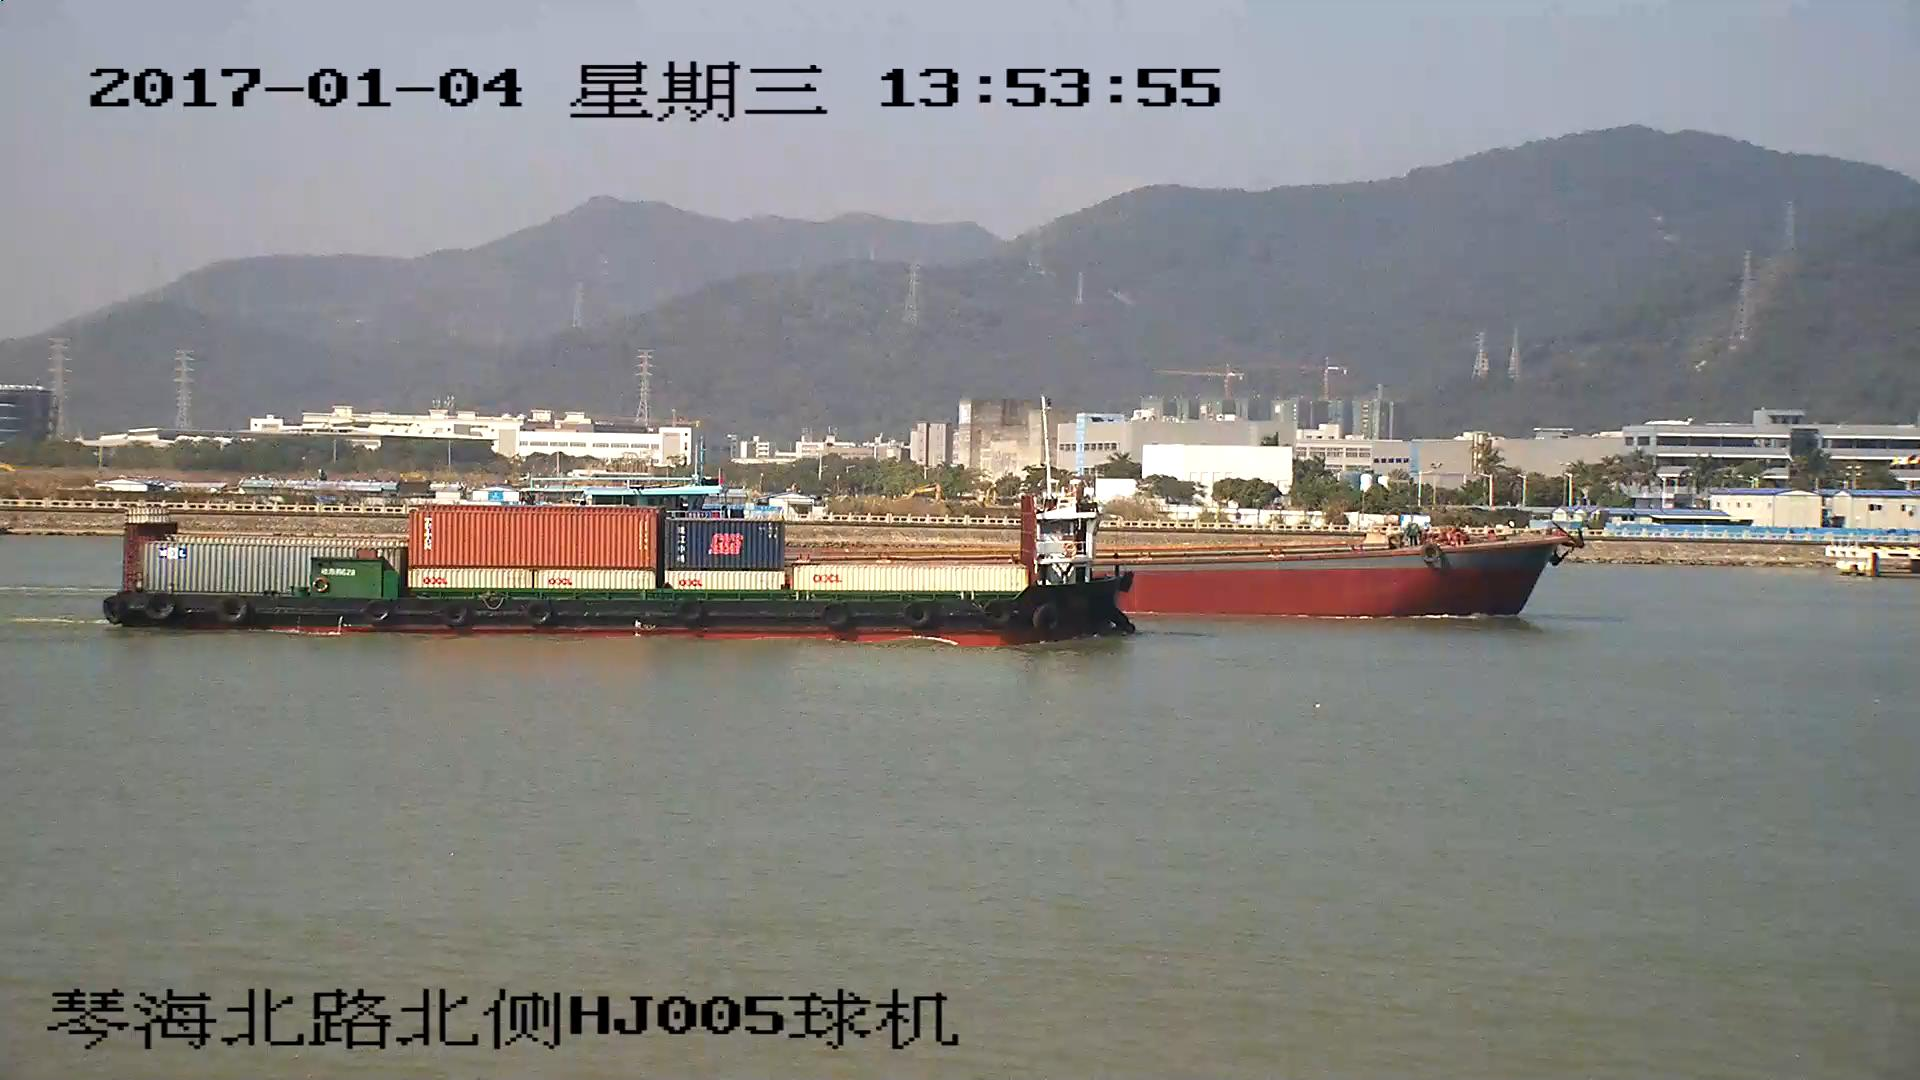bulk cargo carrier: (1130, 526, 1566, 619)
container ship: (103, 501, 1142, 640)
